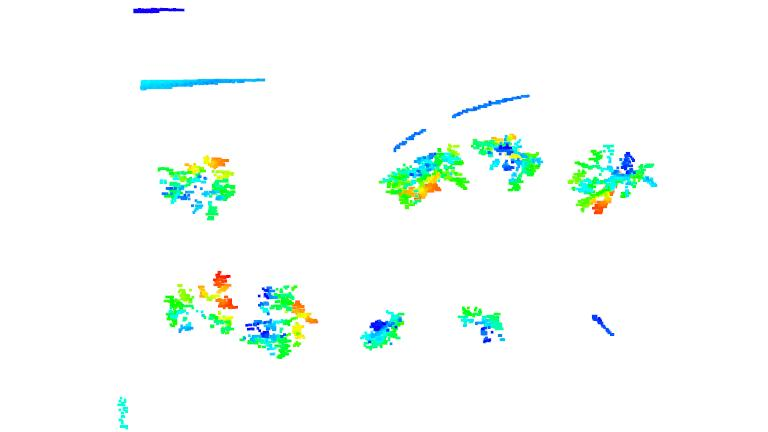chickpea: (569, 140, 658, 216), (381, 139, 473, 210), (162, 269, 240, 344), (154, 152, 236, 223), (242, 282, 316, 359), (471, 128, 545, 192), (458, 300, 512, 345), (362, 305, 409, 353)
